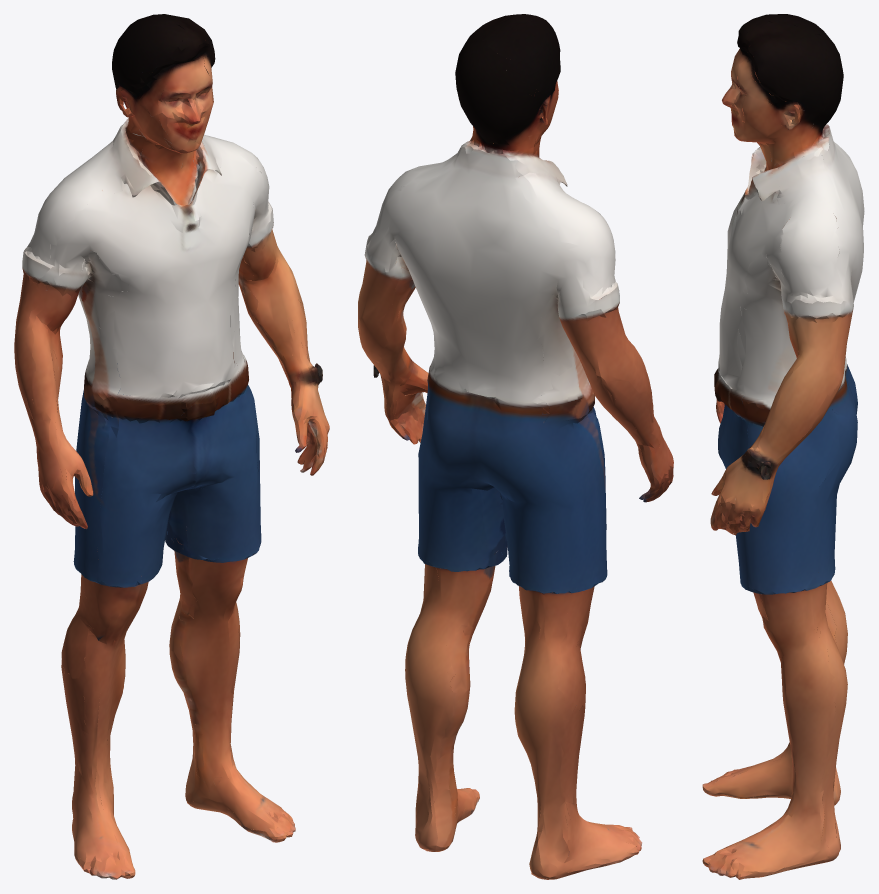
The model's file is summer.glb.
3 views of the same model, side by side, from view 1: azimuth 30°, elevation 25°; view 2: azimuth 150°, elevation 25°; view 3: azimuth 270°, elevation 25° (orthographic).
Visible parts, largest first — view 1: Asian_Summer_Business_Shorts_Final; view 2: Asian_Summer_Business_Shorts_Final; view 3: Asian_Summer_Business_Shorts_Final.
Part boxes in pixels (x1=…): Asian_Summer_Business_Shorts_Final: x1=14, y1=14, x2=329, y2=879; Asian_Summer_Business_Shorts_Final: x1=358, y1=14, x2=673, y2=879; Asian_Summer_Business_Shorts_Final: x1=702, y1=14, x2=864, y2=879.
Size of the model in its own units: 0.6339 by 1.73 by 0.3136.
Materials: 1 (1 with a texture image).
